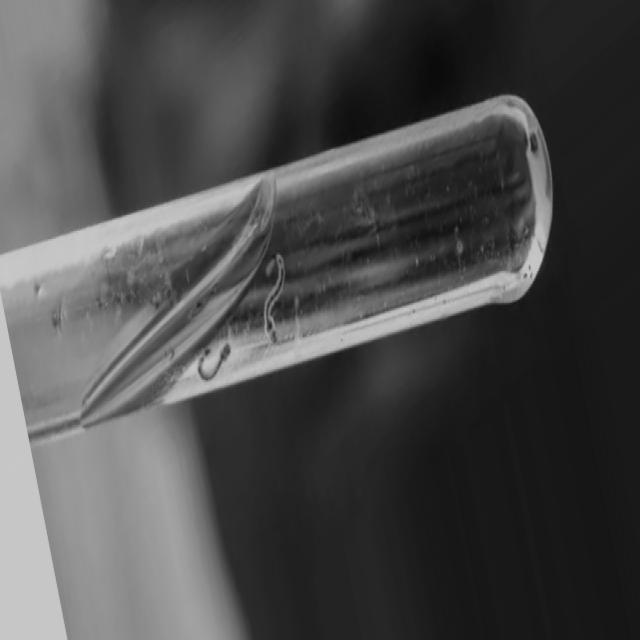larvas: (264, 253, 285, 343), (199, 345, 229, 379)
